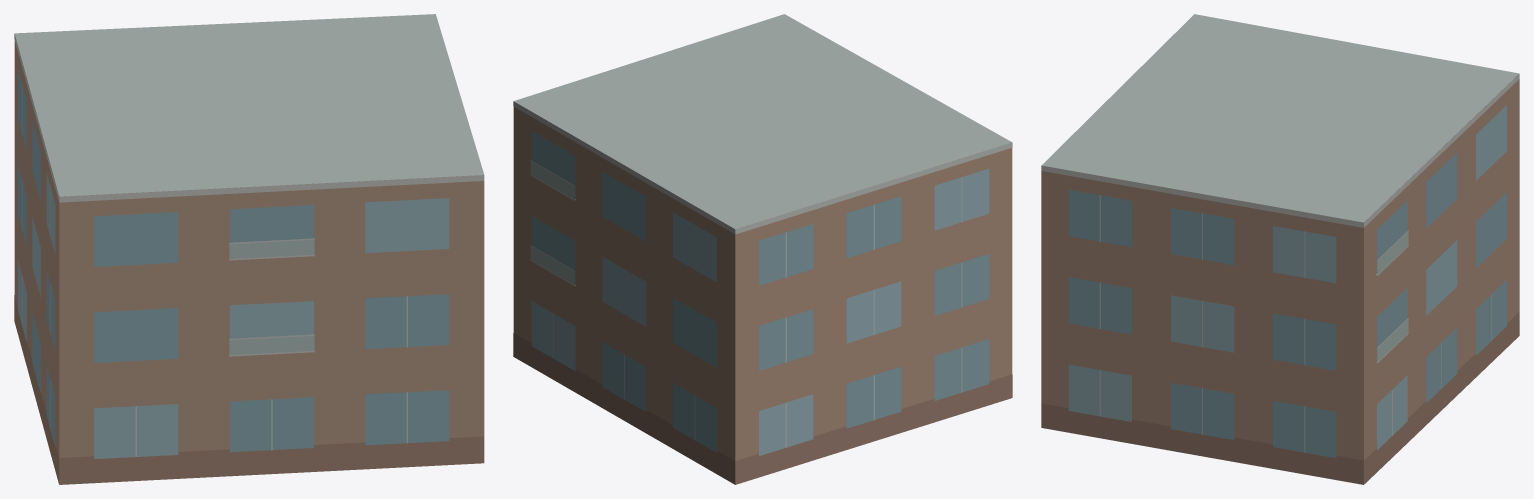
File: survey-upis-33017867.glb
The picture shows the model from 3 angles, left to right: view 1: azimuth 30°, elevation 25°; view 2: azimuth 150°, elevation 25°; view 3: azimuth 270°, elevation 25°; orthographic projection. The views are drawn at different scales.
Parts seen in each view (by area): view 1: survey-upis-33017867.tmp; view 2: survey-upis-33017867.tmp; view 3: survey-upis-33017867.tmp.
Boxes of the visible parts, left/top/right/bottom form: survey-upis-33017867.tmp: left=14, top=14, right=484, bottom=484; survey-upis-33017867.tmp: left=513, top=14, right=1012, bottom=484; survey-upis-33017867.tmp: left=1041, top=14, right=1519, bottom=484.
Bounding box in the file's own units: 20.3 × 11.9 × 19.67.
